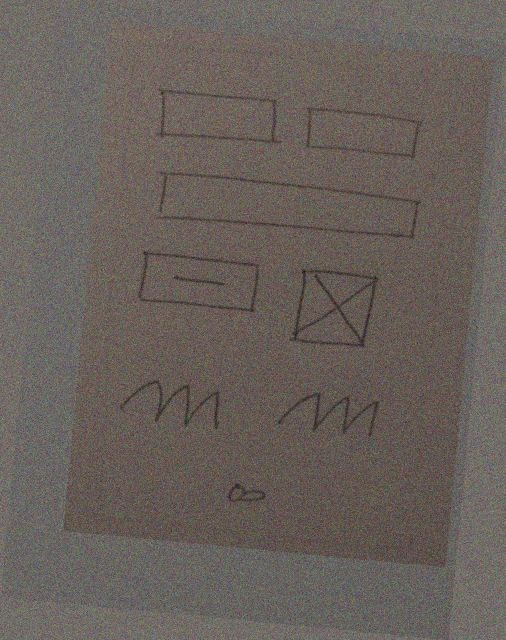button: (130, 244, 266, 323)
image: (286, 262, 386, 355)
switch: (214, 473, 275, 516)
text: (111, 368, 227, 439), (269, 381, 386, 447)
text_input: (148, 164, 426, 248), (148, 84, 291, 152), (298, 101, 424, 168)
